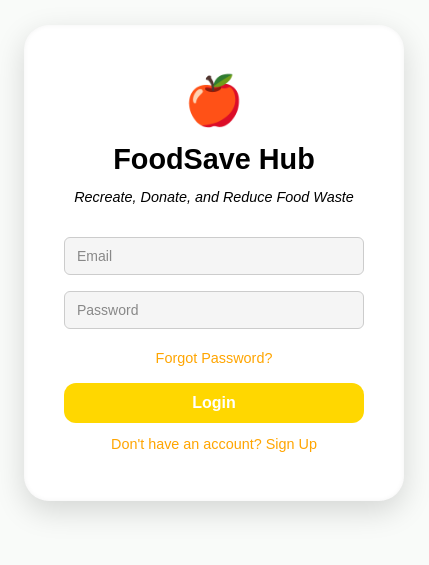
it: LoginForm › shows login error
Type "bad@mail.com" into the field with placeholder "Email" at (214, 256), box [64,237,364,275]
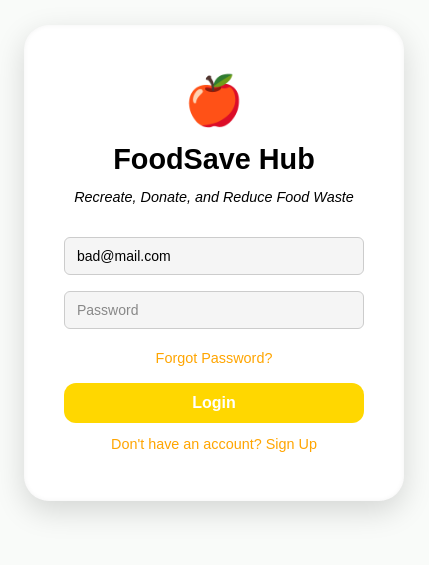
Type "wrong" into the password field with placeholder "Password" at (214, 310), box [64,291,364,329]
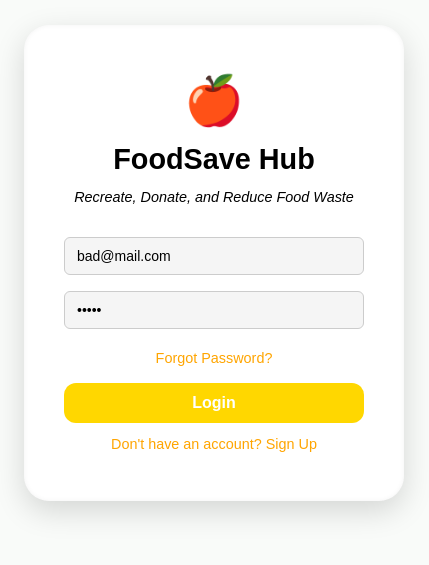
Click the button "Login" at (214, 403), box [64,383,364,423]
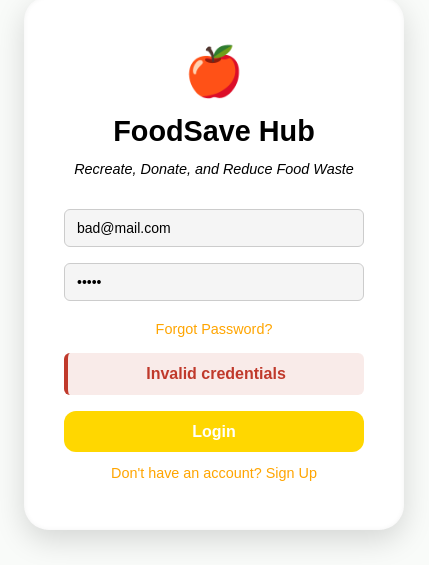
Now the text "Invalid credentials" is shown, box [64,353,364,395]
